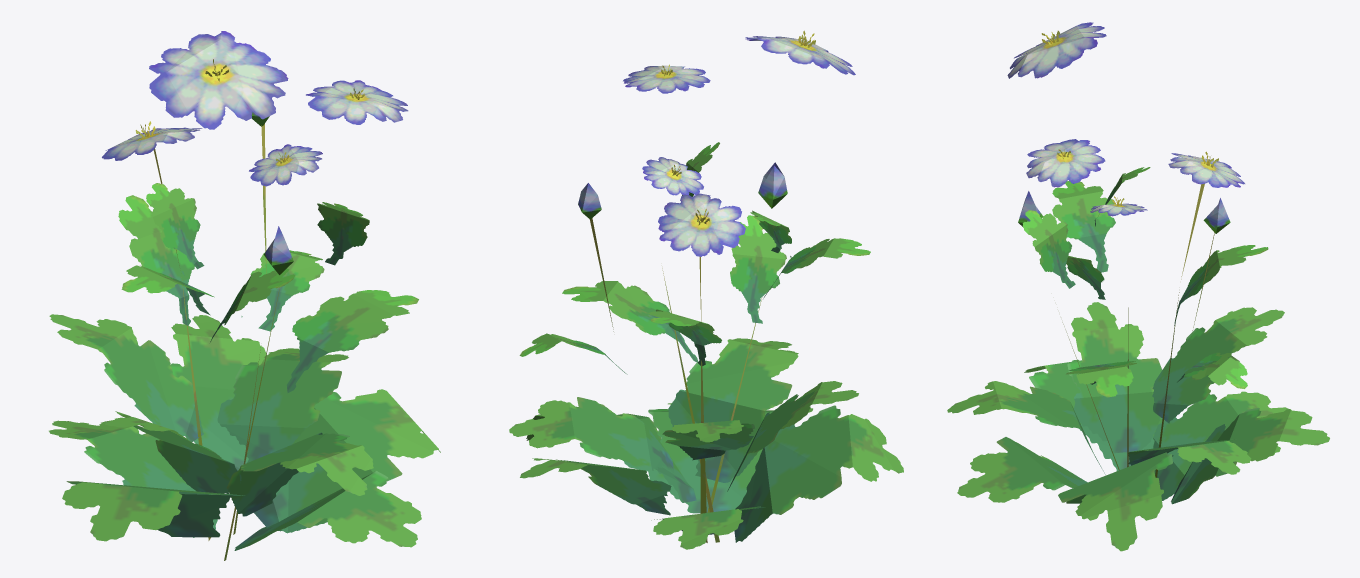
The model's file is gi-Flower_Blue_03.glb.
The picture shows the model from 3 angles, left to right: view 1: azimuth 30°, elevation 25°; view 2: azimuth 150°, elevation 25°; view 3: azimuth 270°, elevation 25°; orthographic projection. The views are drawn at different scales.
Parts seen in each view (by area): view 1: gi-Flower_Blue_03; view 2: gi-Flower_Blue_03; view 3: gi-Flower_Blue_03.
Part boxes in pixels (x1,y1,x2,y2): gi-Flower_Blue_03: (49, 31, 440, 560); gi-Flower_Blue_03: (509, 30, 903, 549); gi-Flower_Blue_03: (947, 22, 1329, 551).
Bounding box in the file's own units: 0.5685 × 0.7459 × 0.5814.
1 material, 1 textured.
